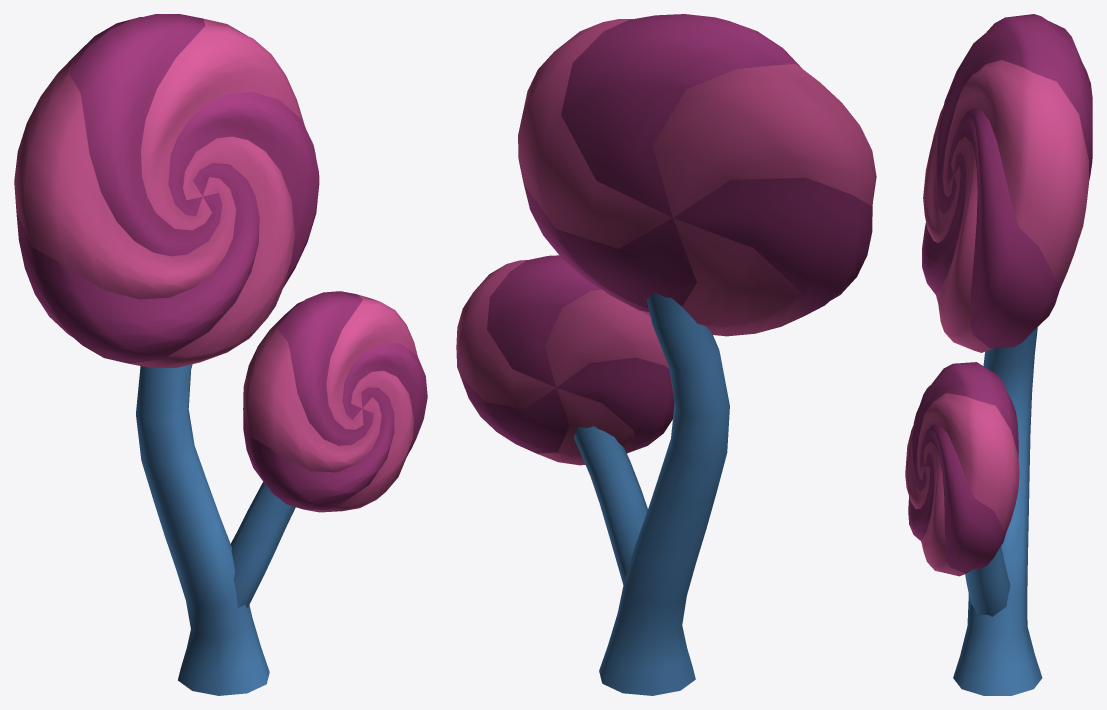
File: Tree_Swirl_Remake.glb
3 views of the same model, side by side, from view 1: azimuth 30°, elevation 25°; view 2: azimuth 150°, elevation 25°; view 3: azimuth 270°, elevation 25° (orthographic). The views are drawn at different scales.
Parts seen in each view (by area): view 1: Candy_Tree_Remake; view 2: Candy_Tree_Remake; view 3: Candy_Tree_Remake.
Boxes of the visible parts, bbox=[...] form: Candy_Tree_Remake: bbox=[14, 14, 427, 695]; Candy_Tree_Remake: bbox=[456, 14, 876, 695]; Candy_Tree_Remake: bbox=[905, 14, 1092, 695].
Size of the model in its own units: 4.63 by 7.34 by 2.01.
